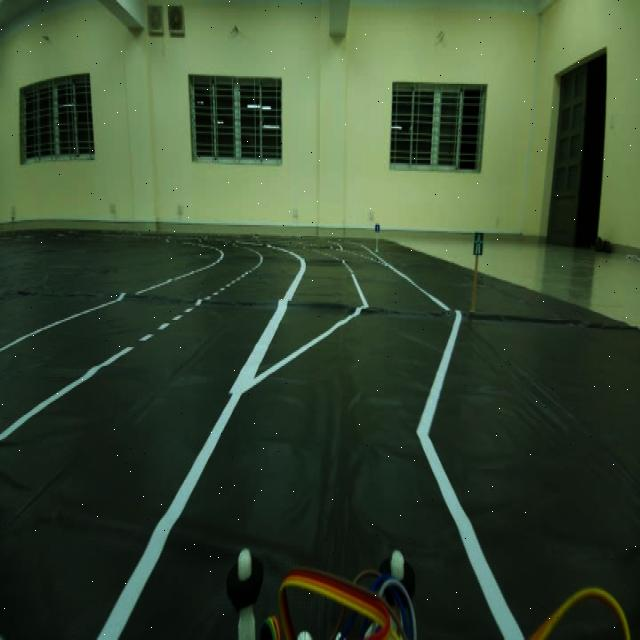highway_entry: (470, 216, 488, 256)
